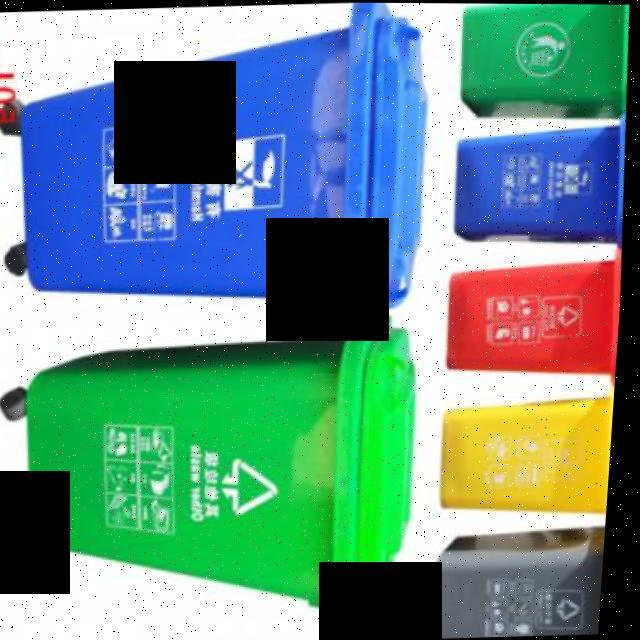bin: (0, 0, 451, 345), (0, 314, 446, 640), (440, 115, 633, 260), (446, 243, 628, 390), (438, 384, 620, 530), (437, 3, 633, 131), (438, 520, 613, 638)
